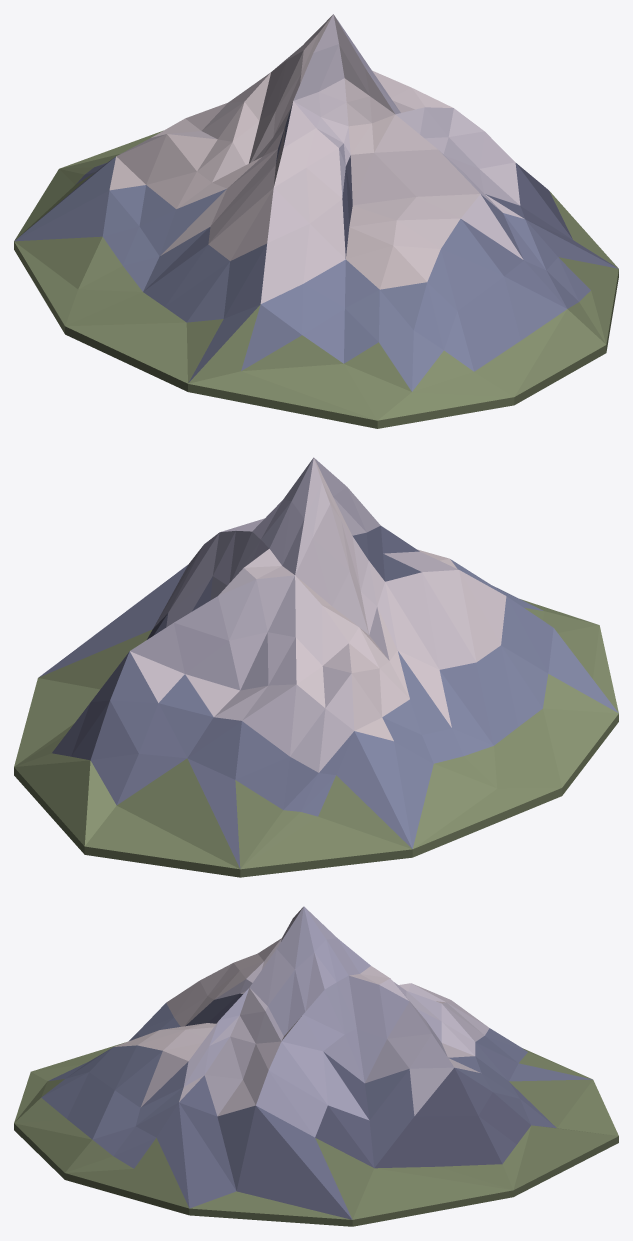
The model's file is massif_needle_ridge.glb.
The picture shows the model from 3 angles, top to bottom: view 1: azimuth 30°, elevation 25°; view 2: azimuth 150°, elevation 25°; view 3: azimuth 270°, elevation 25°; orthographic projection. The views are drawn at different scales.
Parts seen in each view (by area): view 1: massif_needle_ridge; view 2: massif_needle_ridge; view 3: massif_needle_ridge.
Boxes of the visible parts, x1,y1,x2,y2 form: massif_needle_ridge: [14, 14, 618, 428]; massif_needle_ridge: [14, 457, 618, 877]; massif_needle_ridge: [14, 906, 618, 1226].
Bounding box in the file's own units: 558 × 282 × 699.
